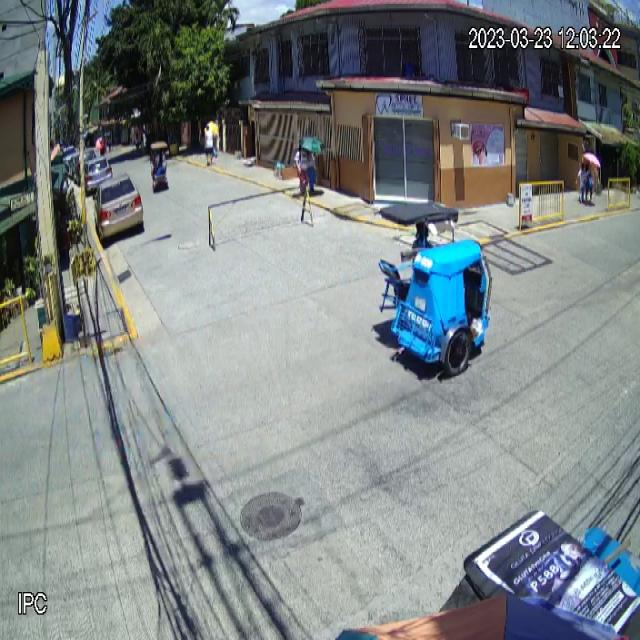Tricycle: (376, 203, 494, 377)
